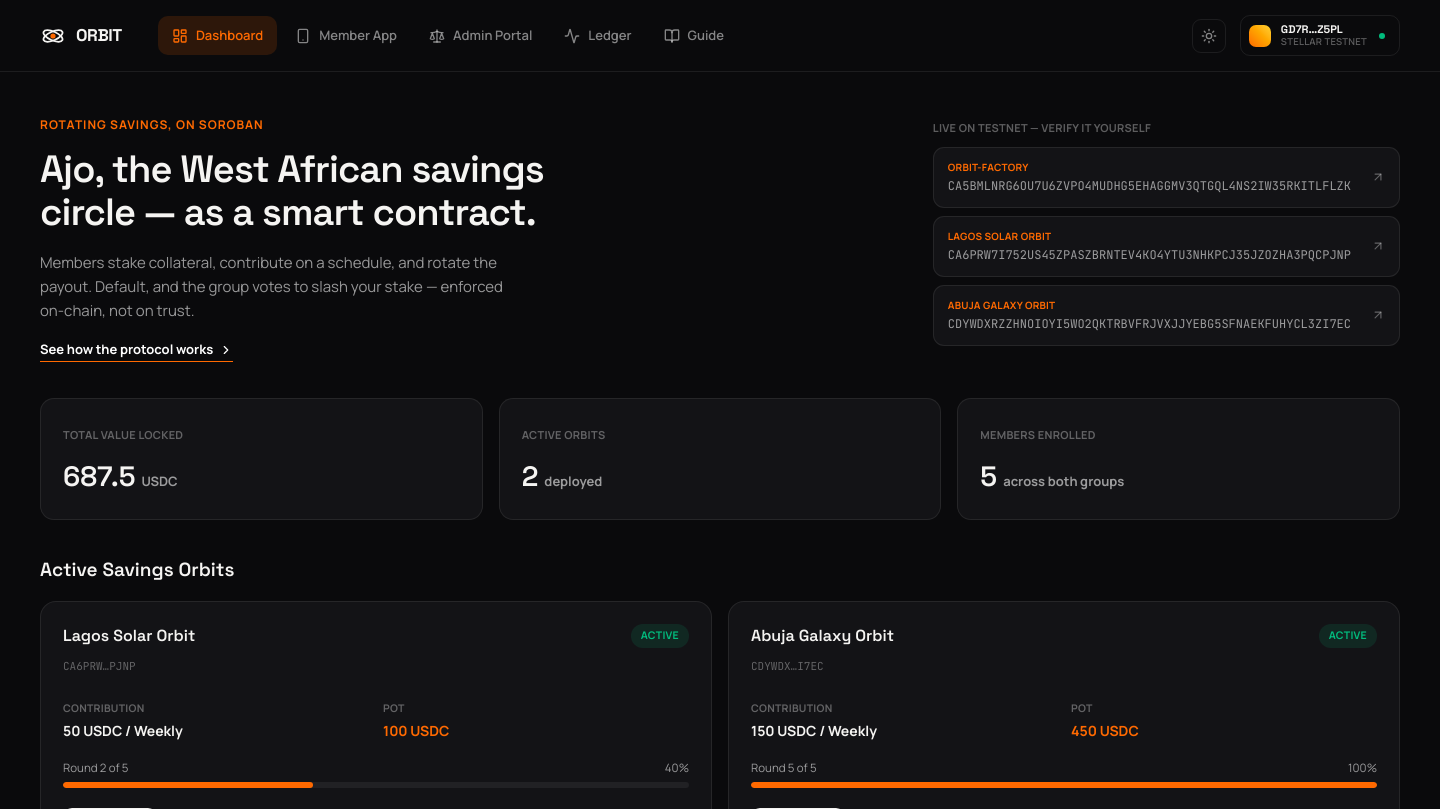
Test: App › navigates between views via the desktop top nav
Click the button "Guide" at (694, 36), box 650,16 -> 738,55
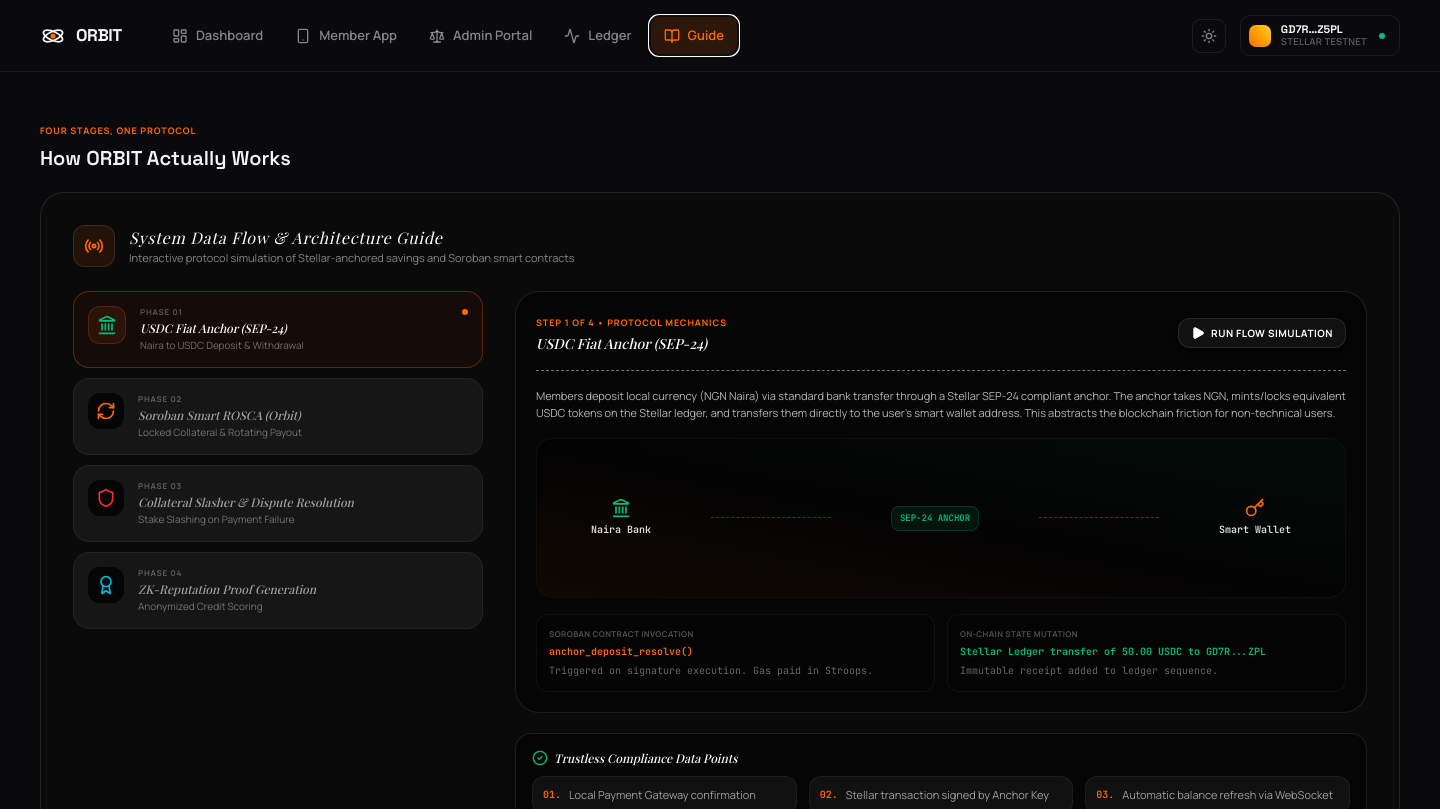
Check: the heading "How ORBIT Actually Works" is shown, box 40,145 -> 291,171
Click the button "Ledger" at (598, 36), box 550,16 -> 646,55
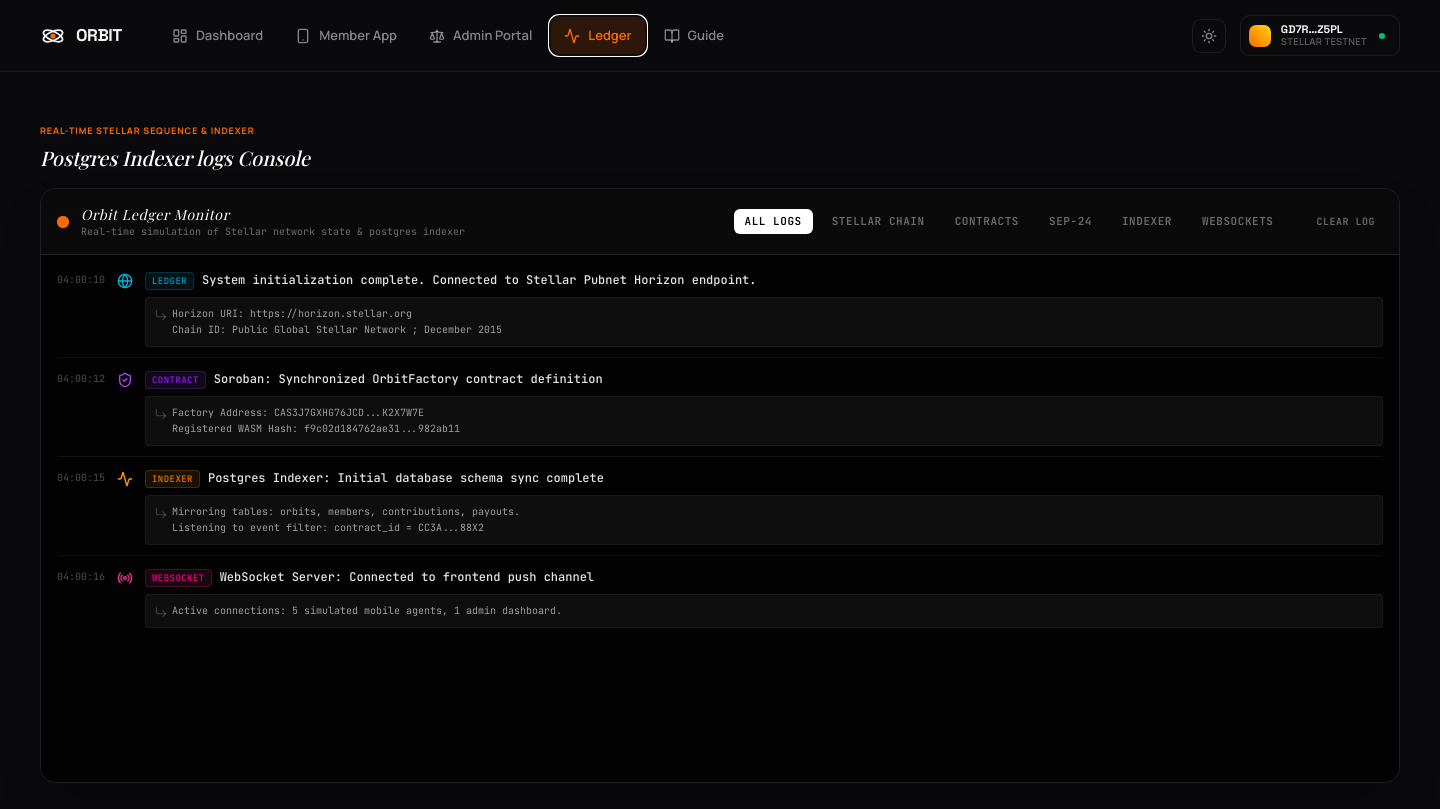
Check: the heading "Postgres Indexer logs Console" is shown, box 40,144 -> 310,171
Click the button "Dashboard" at (218, 36), box 158,16 -> 277,55
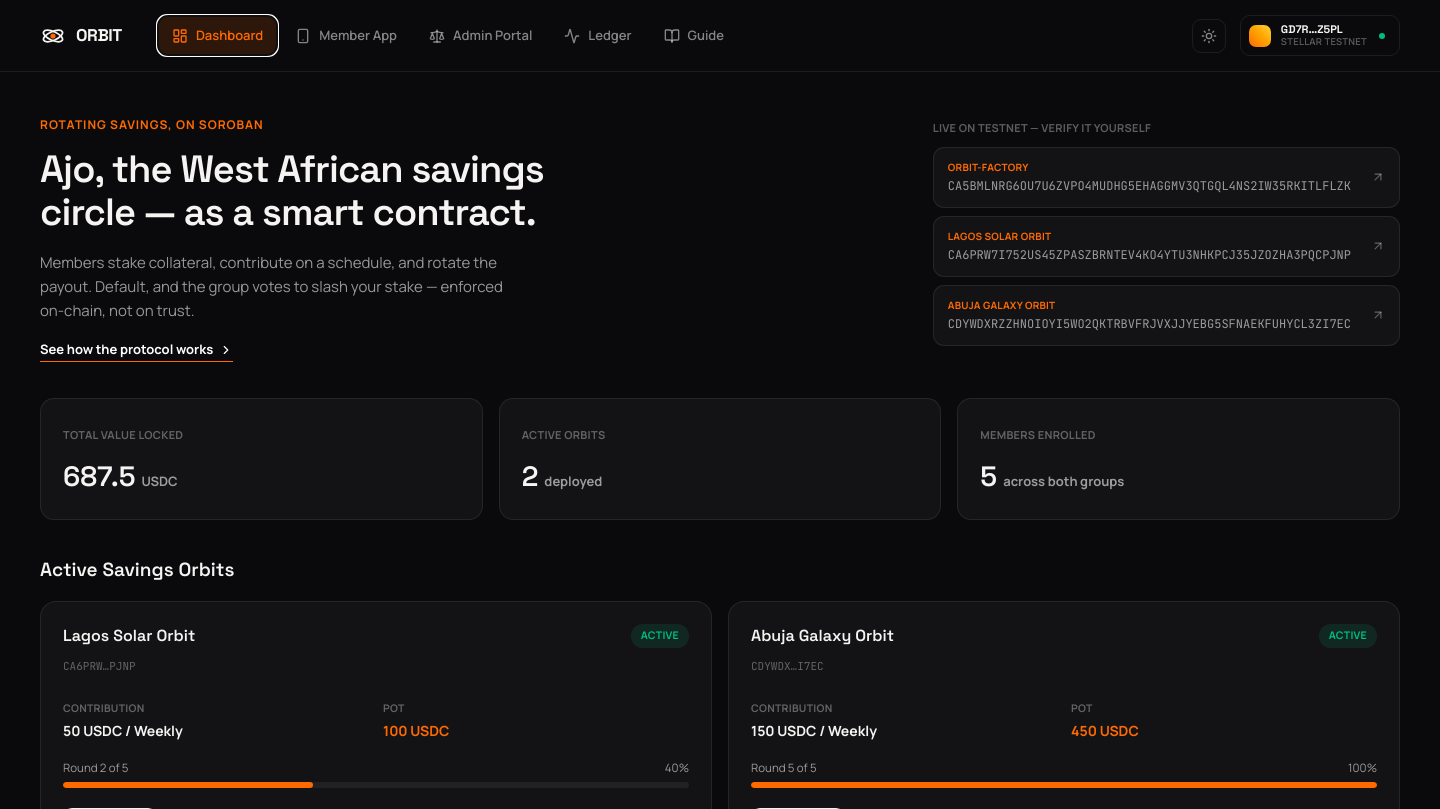
Check: the heading "Ajo, the West African savings circle — as a smart contract." is shown, box 40,145 -> 544,236
